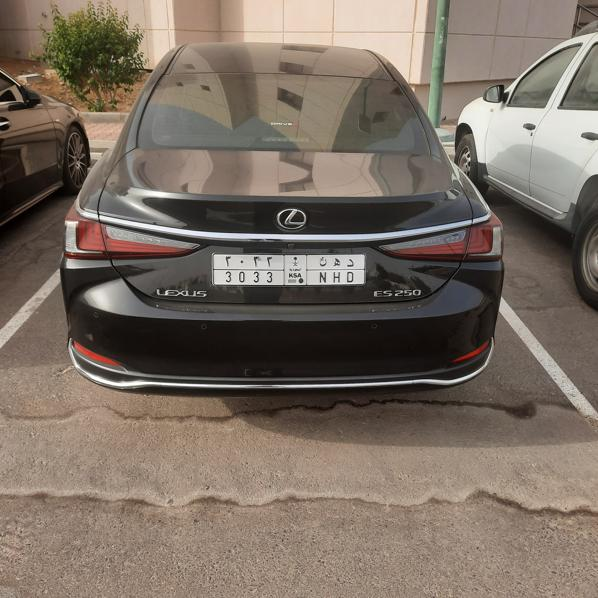numberplate: (213, 253, 365, 286)
